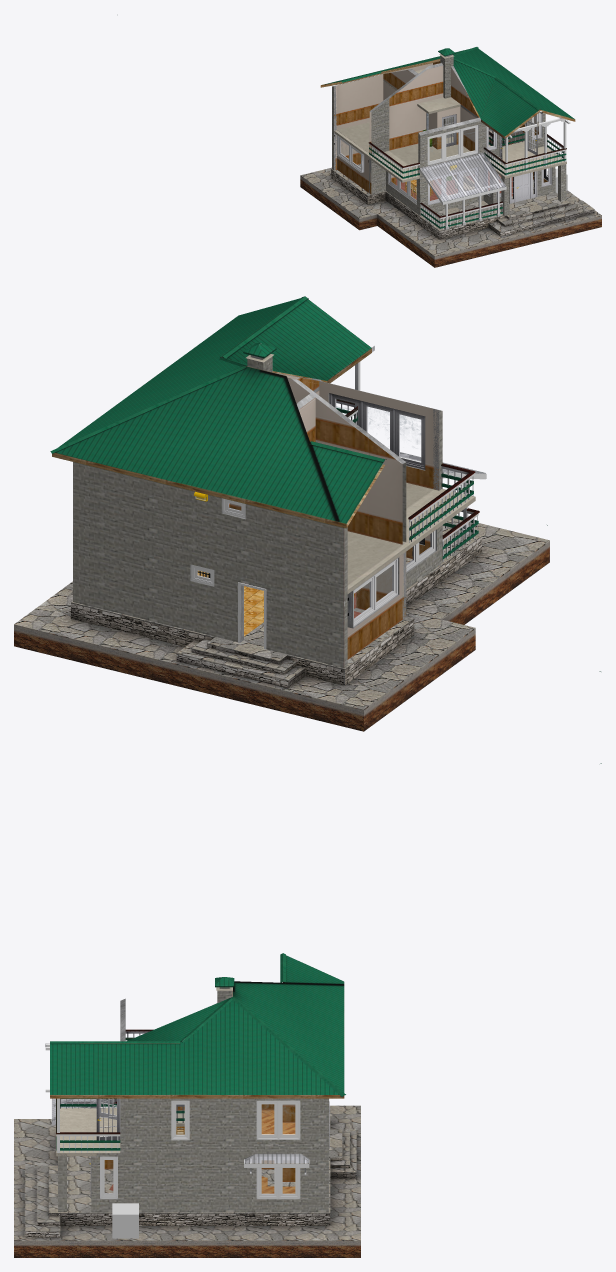
The model's file is BlenderFinal.glb.
3 views of the same model, one above another, from view 1: azimuth 30°, elevation 25°; view 2: azimuth 150°, elevation 25°; view 3: azimuth 270°, elevation 25° (orthographic). The views are drawn at different scales.
Parts seen in each view (by area): view 1: Object_8.008, Object_11.377, Object_11.338, Object_7.253, Object_11.316, Object_7.252, Object_8.001, Object_7.005, Object_8.040, Object_7.003, Object_11, Object_7.144 (+20 smaller); view 2: Object_11.010, Object_7.001, Object_8.008, Object_8.003, Object_7.005, Object_7.003, Object_11.377, Object_11.310, Object_11.308, Object_11.339, Object_8.005, Object_8.002 (+14 smaller); view 3: Object_7.003, Object_11.008, Object_8.008, Object_11.003, Object_7.001, Object_8, Object_8.080, Object_8.040, Object_11.377, Object_7.144, Object_7.319, Object_8.042 (+2 smaller).
Boxes of the visible parts, left/top/right/bottom form: Object_8.008: left=301, top=167, right=601, bottom=255; Object_11.377: left=334, top=122, right=566, bottom=180; Object_11.338: left=389, top=65, right=443, bottom=150; Object_7.253: left=420, top=152, right=505, bottom=201; Object_11.316: left=334, top=63, right=432, bottom=169; Object_7.252: left=421, top=153, right=505, bottom=201; Object_8.001: left=434, top=216, right=601, bottom=267; Object_7.005: left=481, top=79, right=538, bottom=136; Object_8.040: left=331, top=164, right=559, bottom=230; Object_7.003: left=453, top=48, right=574, bottom=119; Object_11: left=420, top=113, right=545, bottom=178; Object_7.144: left=453, top=60, right=494, bottom=118; Object_11.010: left=73, top=462, right=344, bottom=667; Object_7.001: left=55, top=366, right=384, bottom=523; Object_8.008: left=14, top=518, right=549, bottom=709; Object_8.003: left=14, top=625, right=363, bottom=731; Object_7.005: left=222, top=299, right=371, bottom=380; Object_7.003: left=58, top=298, right=299, bottom=447; Object_11.377: left=347, top=483, right=474, bottom=589; Object_11.310: left=369, top=439, right=402, bottom=544; Object_11.308: left=312, top=378, right=439, bottom=489; Object_11.339: left=287, top=377, right=368, bottom=536; Object_8.005: left=364, top=629, right=475, bottom=731; Object_8.002: left=443, top=541, right=549, bottom=624; Object_7.003: left=50, top=1000, right=339, bottom=1094; Object_11.008: left=96, top=1153, right=328, bottom=1212; Object_8.008: left=14, top=1105, right=360, bottom=1240; Object_11.003: left=125, top=1098, right=323, bottom=1153; Object_7.001: left=232, top=955, right=344, bottom=1092; Object_8: left=14, top=1241, right=360, bottom=1257; Object_8.080: left=60, top=1213, right=330, bottom=1225; Object_8.040: left=60, top=1107, right=330, bottom=1212; Object_11.377: left=56, top=1108, right=184, bottom=1152; Object_7.144: left=127, top=997, right=231, bottom=1041; Object_7.319: left=50, top=1095, right=344, bottom=1098; Object_8.042: left=25, top=1162, right=60, bottom=1230.
Bounding box in the file's own units: 50.75 × 21.73 × 44.32.
Materials: 17 (10 with a texture image).
